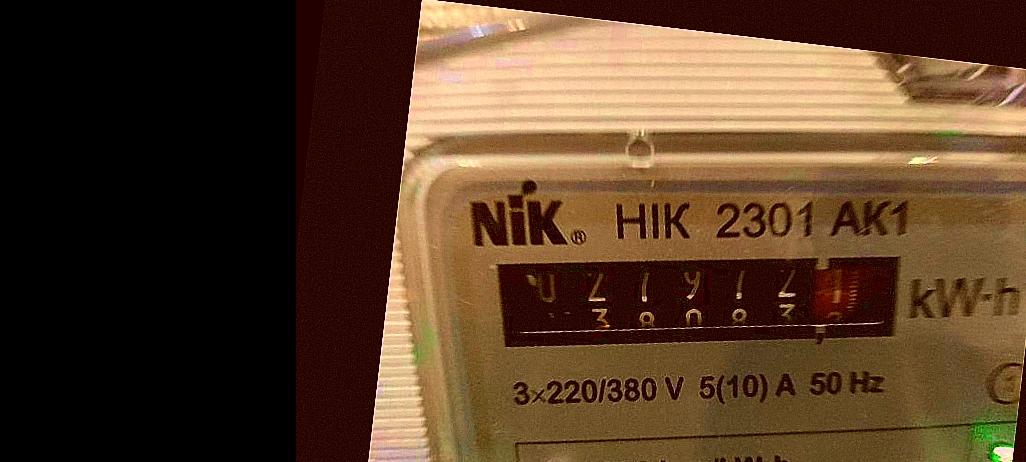0: (530, 265, 562, 304)
1: (825, 262, 851, 307)
2: (580, 262, 613, 304), (771, 260, 803, 300)
7: (724, 259, 754, 303), (630, 265, 657, 304)
9: (677, 263, 707, 301)
screen: (470, 198, 937, 403)
